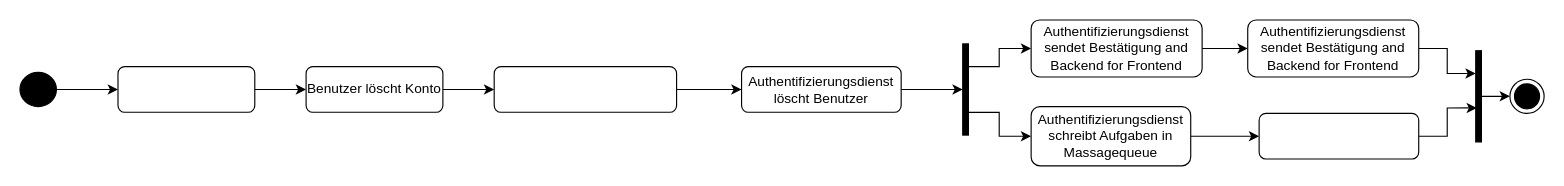
Image size: 1564x186. Some labels were removed from this diagram. The shapes that lost their labels are listed below. From the top down, each one's centre as x and y in pixels, then its label:
At point (186, 89): "Benutzermeldet sich an".
At point (585, 89): "Backend for Frontend schicht delete-Request an Authentifizierungsdienst".
At point (1338, 135): "Dateiverwaltungsdienst löscht Benutzerdaten".
